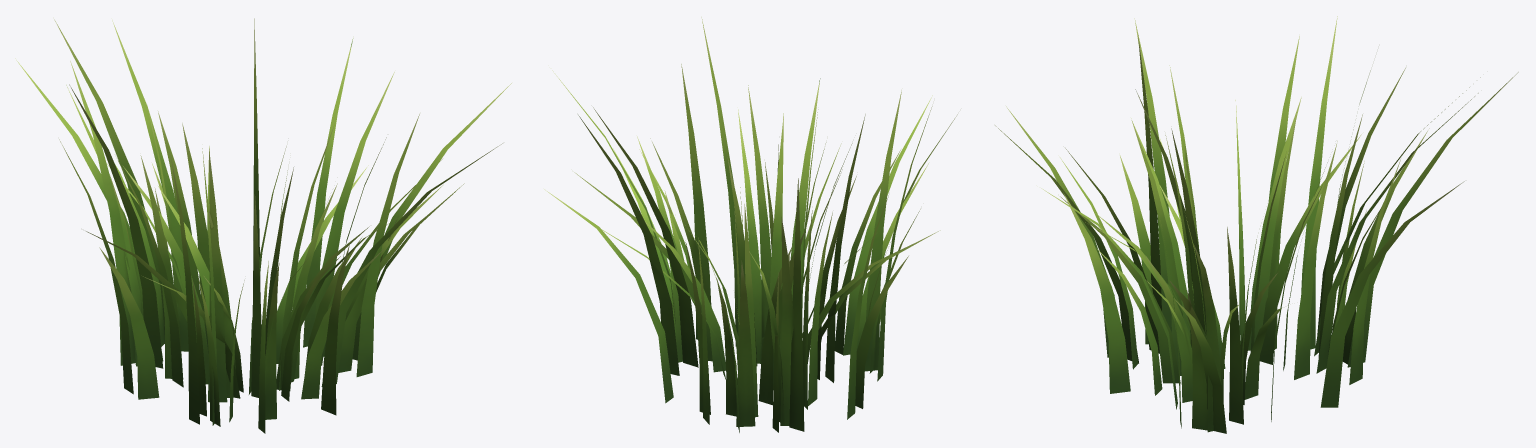
Rendered from grass_tuft_a.glb.
3 views of the same model, side by side, from view 1: azimuth 30°, elevation 25°; view 2: azimuth 150°, elevation 25°; view 3: azimuth 270°, elevation 25° (orthographic). The views are drawn at different scales.
Parts seen in each view (by area): view 1: grass_tuft_a; view 2: grass_tuft_a; view 3: grass_tuft_a.
Part boxes in pixels (<box>): grass_tuft_a: <box>15,18,511,433</box>; grass_tuft_a: <box>544,17,957,432</box>; grass_tuft_a: <box>995,16,1518,433</box>.
Size of the model in its own units: 0.9626 by 0.6473 by 1.03.
1 material, 1 textured.
